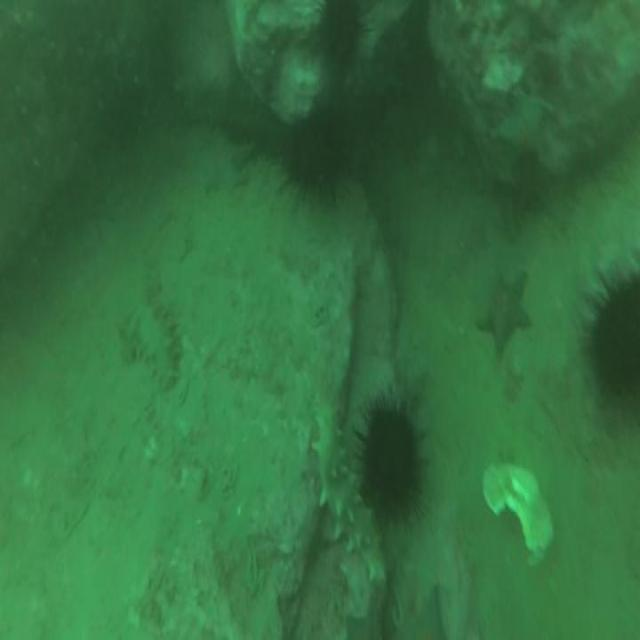echinus: (361, 404, 420, 516), (590, 275, 640, 403), (283, 117, 341, 194), (319, 5, 362, 63)
holothurian: (310, 405, 385, 583), (126, 300, 182, 390)
starfish: (476, 269, 530, 349)
